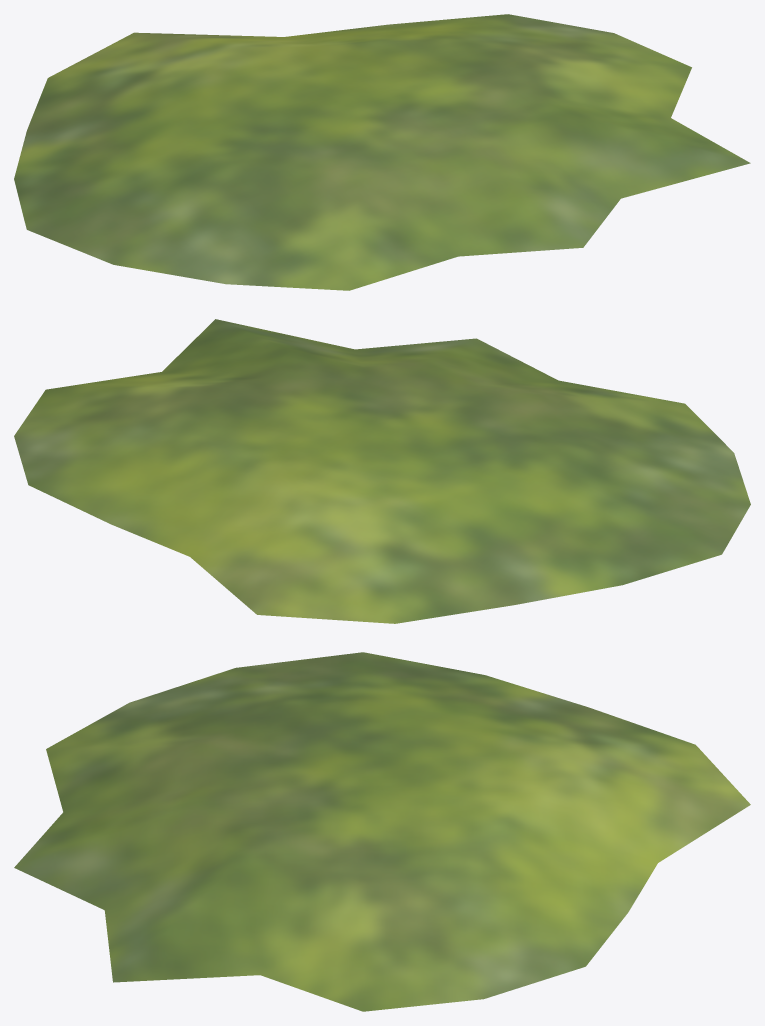
Rendered from Transition_Moss_B.glb.
3 renders of one model, top to bottom at view 1: azimuth 30°, elevation 25°; view 2: azimuth 150°, elevation 25°; view 3: azimuth 270°, elevation 25°, orthographic. The views are drawn at different scales.
Visible parts, largest first — view 1: Transition_Moss_B; view 2: Transition_Moss_B; view 3: Transition_Moss_B.
Boxes of the visible parts, x1,y1,x2,y2 form: Transition_Moss_B: [14, 14, 750, 290]; Transition_Moss_B: [14, 319, 750, 623]; Transition_Moss_B: [14, 652, 750, 1011].
Size of the model in its own units: 2.58 by 0.162 by 2.24.
1 material, 1 textured.
